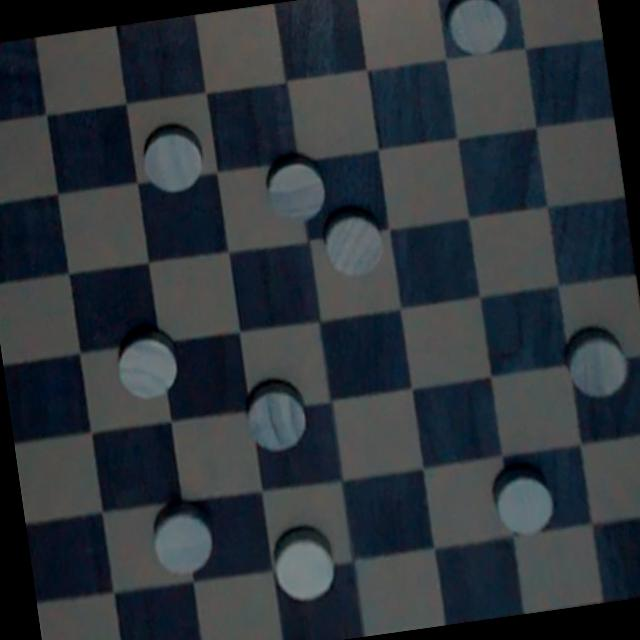BOARD: (0, 0, 640, 640)
white: (482, 449, 576, 543), (259, 518, 353, 610), (552, 315, 638, 406), (242, 370, 320, 458), (108, 322, 188, 406), (145, 501, 226, 581), (316, 204, 393, 288), (132, 117, 210, 198), (261, 138, 331, 228), (432, 0, 521, 70)
